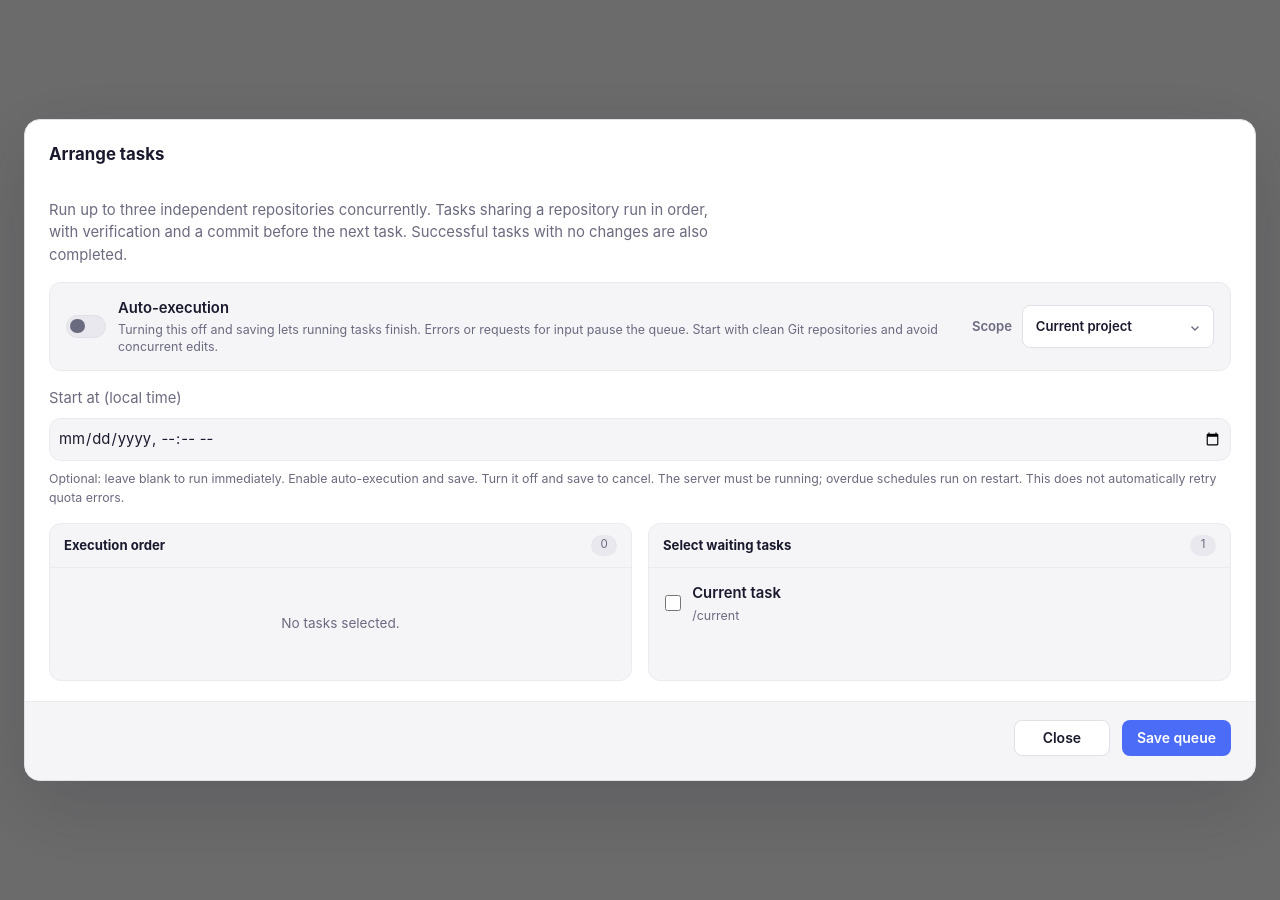
Test case: TaskExecutionDialog › rejects a past scheduled time without saving
Click the switch at (86, 326), box [66,315,106,338]
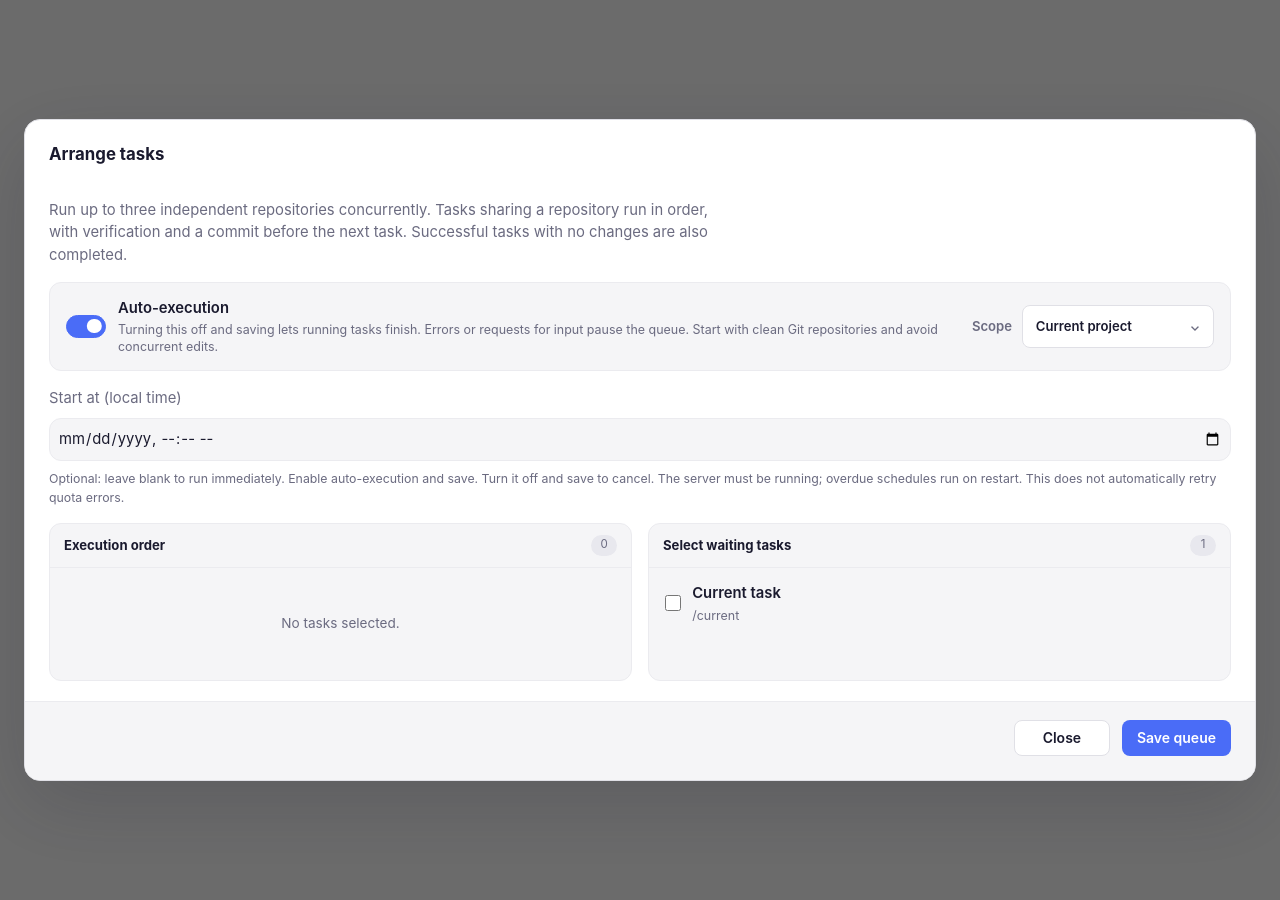
Type "2020-01-01T10:00" into the field at (640, 439), box [49,418,1231,461]
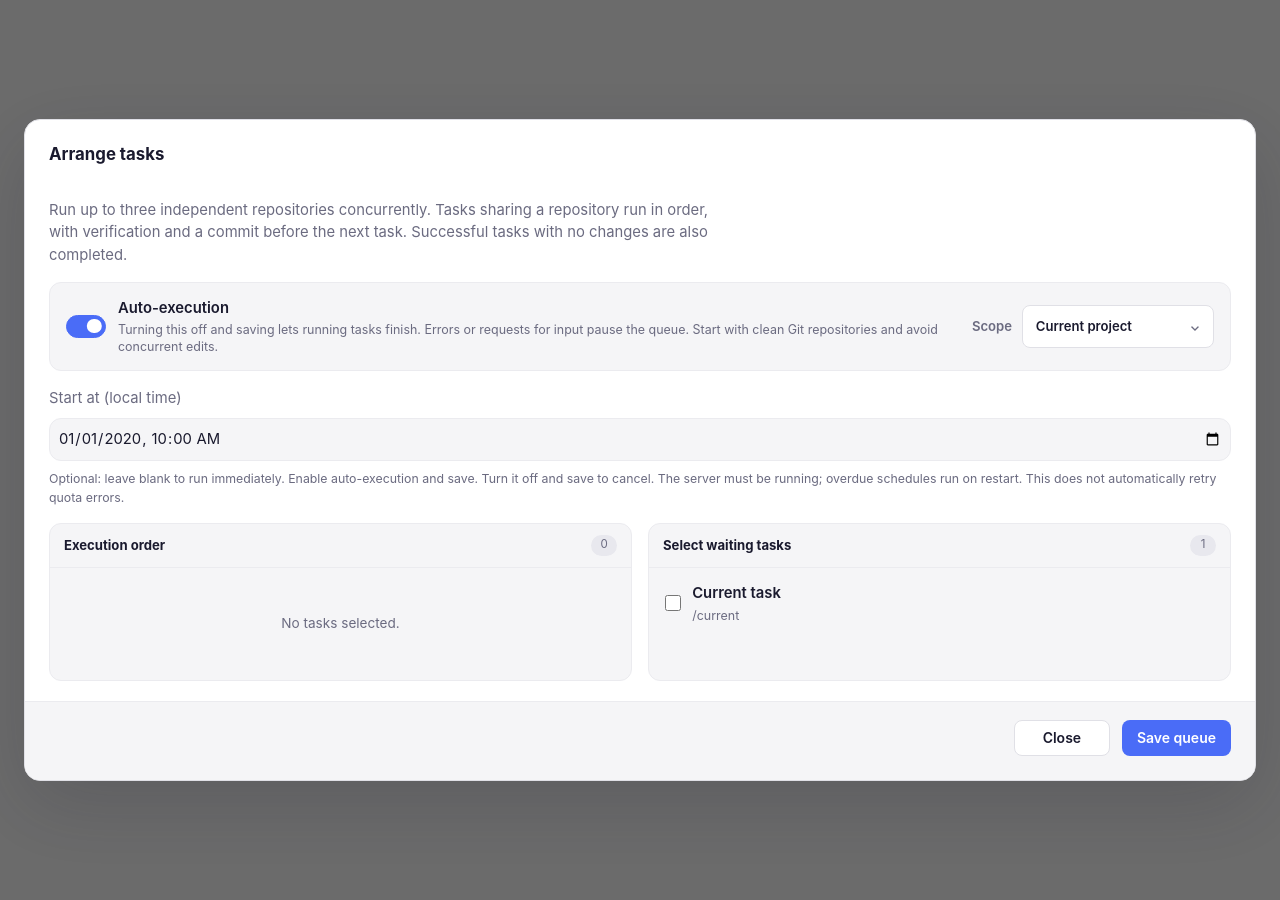
Click the button with class "btn-confirm" at (1176, 738), box [1122,720,1231,756]
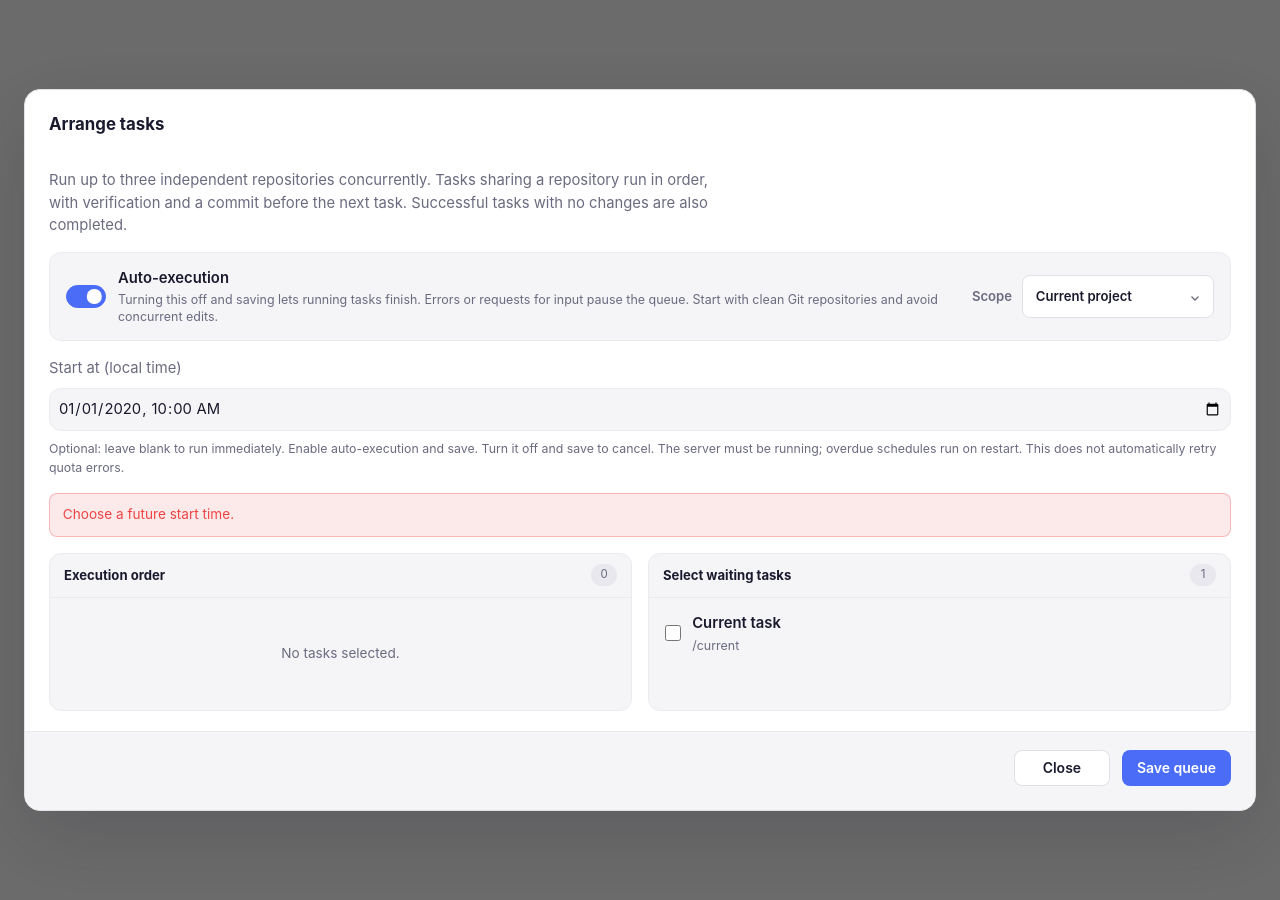
Now the message "Choose a future start time." is shown, box [49,493,1231,537]
